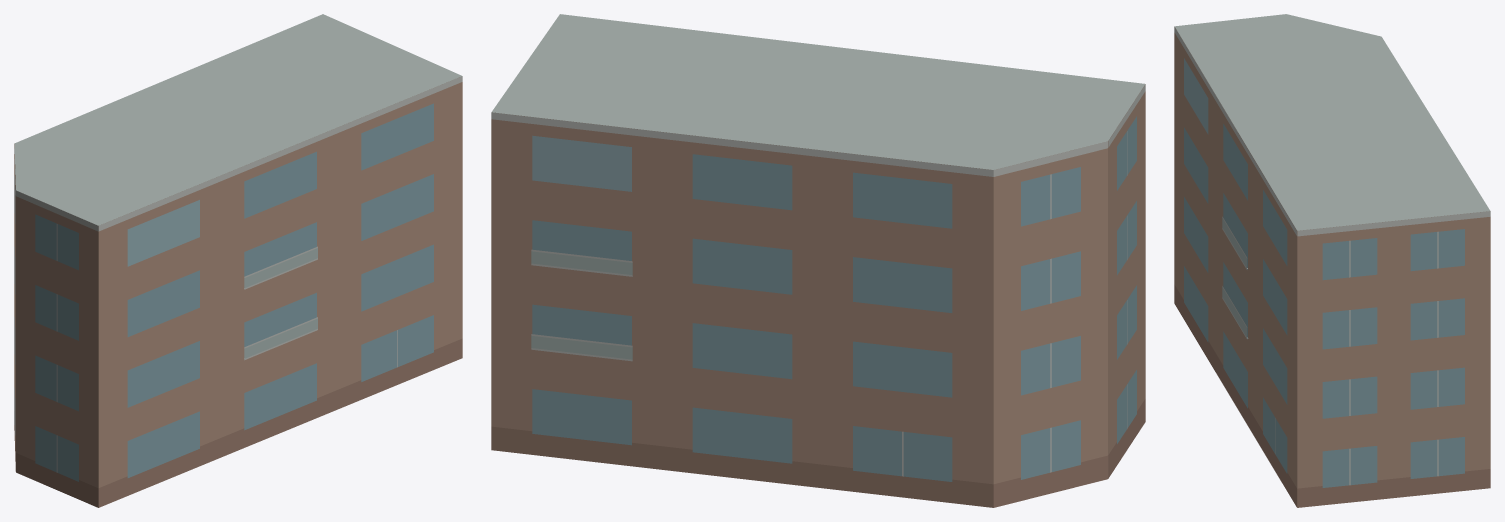
The model's file is survey-upis-32562106.glb.
3 views of the same model, side by side, from view 1: azimuth 30°, elevation 25°; view 2: azimuth 150°, elevation 25°; view 3: azimuth 270°, elevation 25° (orthographic). The views are drawn at different scales.
Visible parts, largest first — view 1: survey-upis-32562106.tmp; view 2: survey-upis-32562106.tmp; view 3: survey-upis-32562106.tmp.
Boxes of the visible parts, x1,y1,x2,y2 form: survey-upis-32562106.tmp: [14, 14, 462, 507]; survey-upis-32562106.tmp: [491, 14, 1145, 507]; survey-upis-32562106.tmp: [1174, 14, 1490, 507].
Size of the model in its own units: 19.8 by 11.8 by 12.21.
